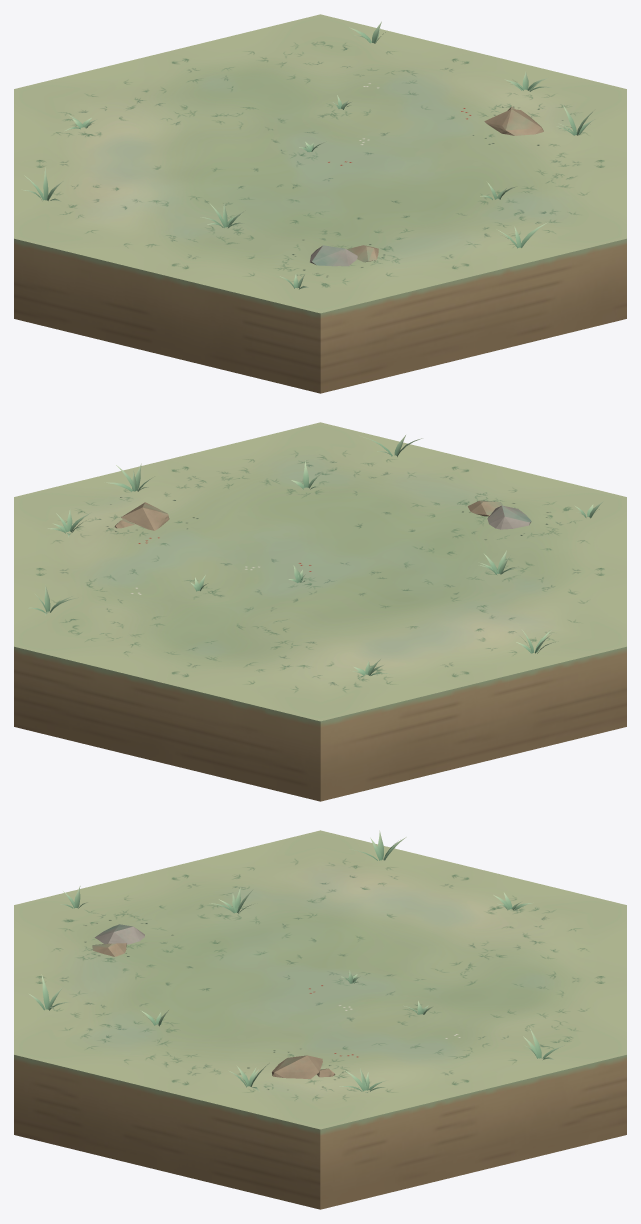
The model's file is Hex_Plain.glb.
3 renders of one model, top to bottom at view 1: azimuth 30°, elevation 25°; view 2: azimuth 150°, elevation 25°; view 3: azimuth 270°, elevation 25°, orthographic.
Parts seen in each view (by area): view 1: Hex_Plain; view 2: Hex_Plain; view 3: Hex_Plain.
Part boxes in pixels (bbox=[...]): Hex_Plain: bbox=[14, 14, 626, 393]; Hex_Plain: bbox=[14, 422, 626, 801]; Hex_Plain: bbox=[14, 830, 626, 1209].
Size of the model in its own units: 8 by 1.32 by 6.93.
Materials: 2 (2 with a texture image).
